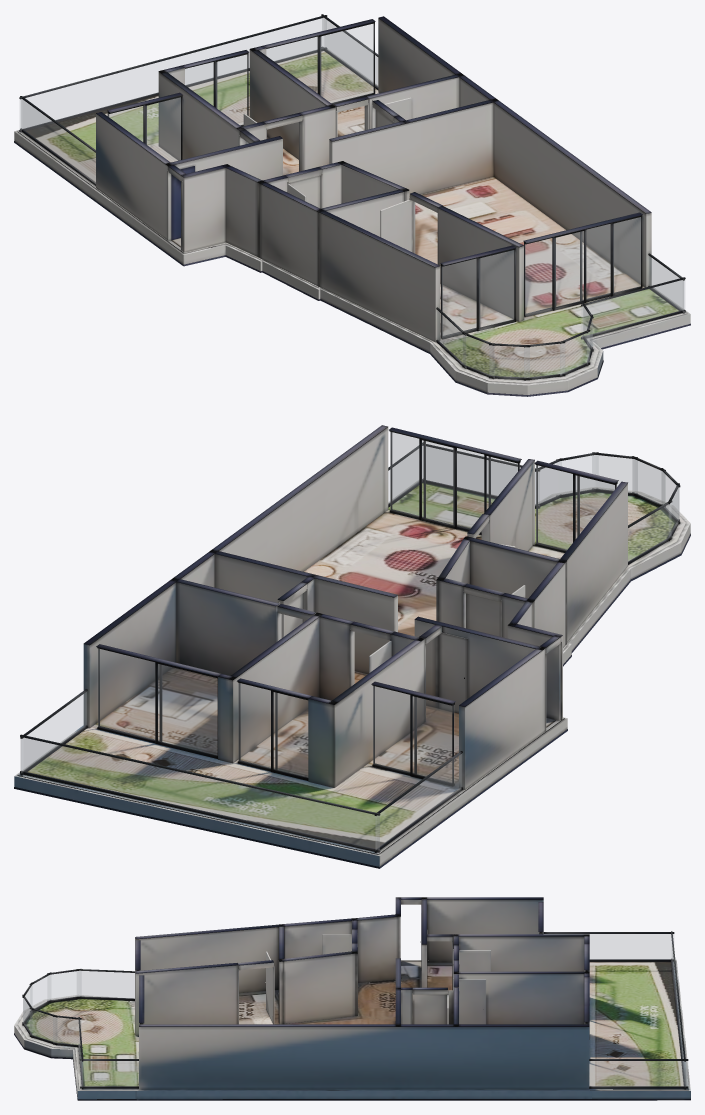
3 renders of one model, top to bottom at view 1: azimuth 30°, elevation 25°; view 2: azimuth 150°, elevation 25°; view 3: azimuth 270°, elevation 25°, orthographic. The views are drawn at different scales.
Parts seen in each view (by area): view 1: plan, glass4_m, railg0_m, glass1_m, glass3_m, railg4_m, glass0_m, glass2_m, railg3_m, railg1_m, railg8_m, railg9_m (+4 smaller); view 2: plan, railg0_m, glass1_m, glass4_m, glass2_m, glass0_m, glass3_m, railg3_m, railg4_m, railg1_m, railg11_m, railg7_m (+3 smaller); view 3: plan, railg1_m, railg3_m, railg2_m, railg11_m, railg10_m, railg6_m, railg5_m, railg9_m.
Boxes of the visible parts, left/top/right/bottom form: plan: left=14, top=14, right=690, bottom=396; glass4_m: left=525, top=217, right=640, bottom=314; railg0_m: left=20, top=18, right=326, bottom=129; glass1_m: left=266, top=24, right=373, bottom=103; glass3_m: left=442, top=250, right=513, bottom=336; railg4_m: left=581, top=280, right=684, bottom=336; glass0_m: left=185, top=55, right=246, bottom=125; glass2_m: left=109, top=97, right=180, bottom=161; railg3_m: left=21, top=99, right=95, bottom=182; railg1_m: left=322, top=18, right=377, bottom=86; railg8_m: left=524, top=343, right=564, bottom=377; railg9_m: left=489, top=345, right=529, bottom=377; plan: left=14, top=425, right=690, bottom=868; railg0_m: left=20, top=738, right=379, bottom=849; glass1_m: left=98, top=648, right=217, bottom=755; glass4_m: left=390, top=432, right=517, bottom=529; glass2_m: left=373, top=686, right=451, bottom=782; glass0_m: left=238, top=683, right=307, bottom=777; glass3_m: left=536, top=465, right=614, bottom=550; railg3_m: left=375, top=754, right=461, bottom=849; railg4_m: left=426, top=447, right=539, bottom=505; railg1_m: left=21, top=692, right=86, bottom=772; railg11_m: left=628, top=503, right=671, bottom=561; railg7_m: left=592, top=455, right=637, bottom=493; plan: left=14, top=897, right=690, bottom=1100; railg1_m: left=589, top=1061, right=687, bottom=1086; railg3_m: left=589, top=934, right=673, bottom=959; railg2_m: left=80, top=1061, right=138, bottom=1086; railg11_m: left=77, top=971, right=134, bottom=998; railg10_m: left=48, top=971, right=80, bottom=1000; railg6_m: left=30, top=1009, right=57, bottom=1042; railg5_m: left=53, top=1017, right=81, bottom=1044; railg9_m: left=31, top=975, right=50, bottom=1008.
Size of the model in its own units: 10.13 by 2.62 by 22.05.
Materials: 2 (1 with a texture image).
